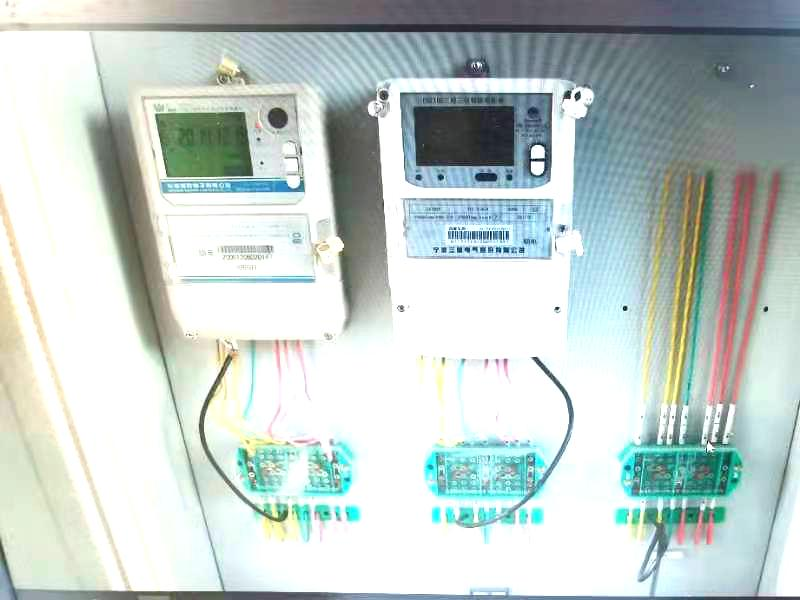digital: (380, 77, 575, 359), (128, 85, 342, 340)
